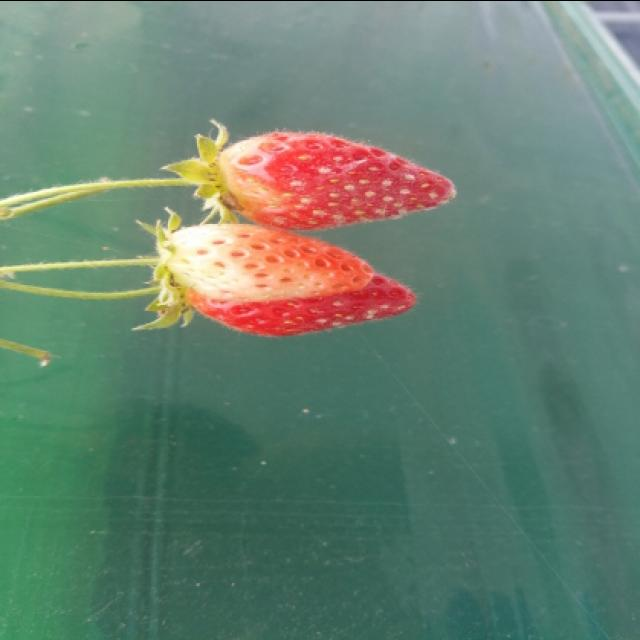Powdery Mildew Fruit: (166, 221, 415, 335), (211, 130, 458, 232)
